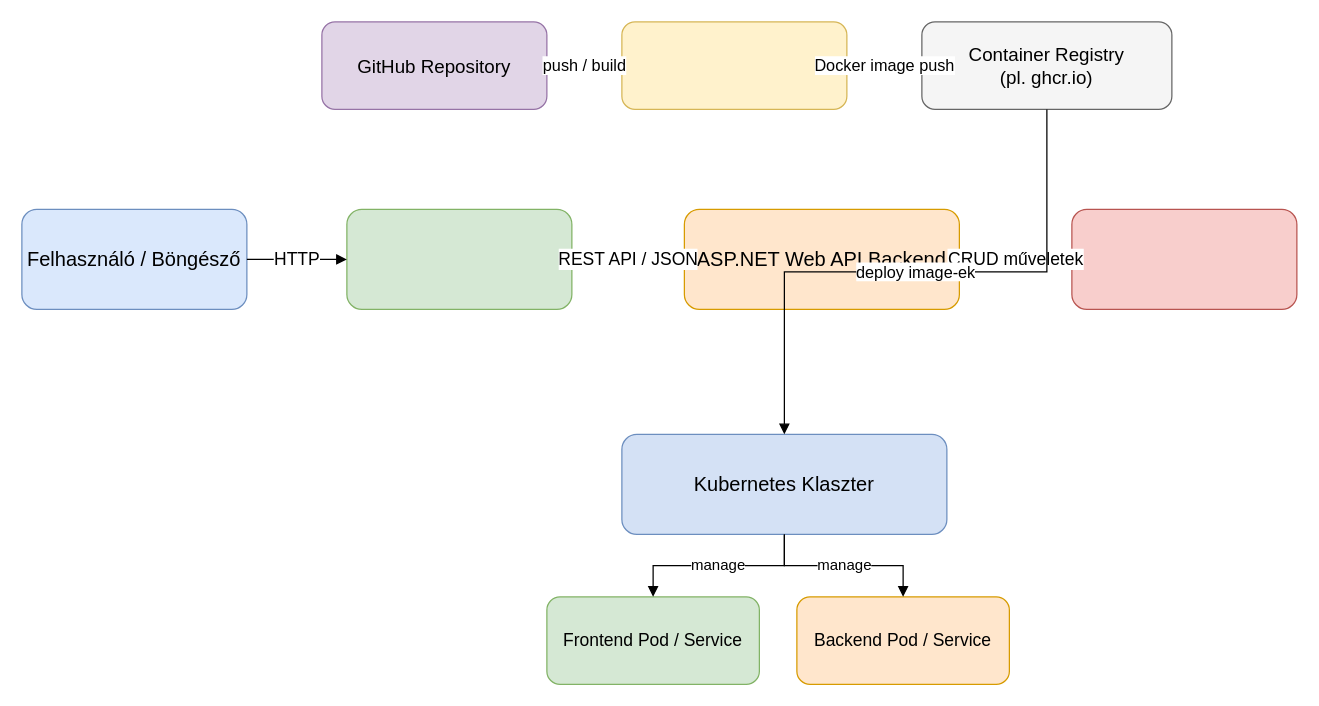
Some shapes in this 1319 by 706 pixel diagram are drawn without their labels. The shapes that lost their labels are listed below. From the top down, each one's centre as x and y in pixels, then its label:
(x=734, y=65): GitHub Actions CI
(x=459, y=258): Angular Frontend
(x=1184, y=258): MongoDB Adatbázis
